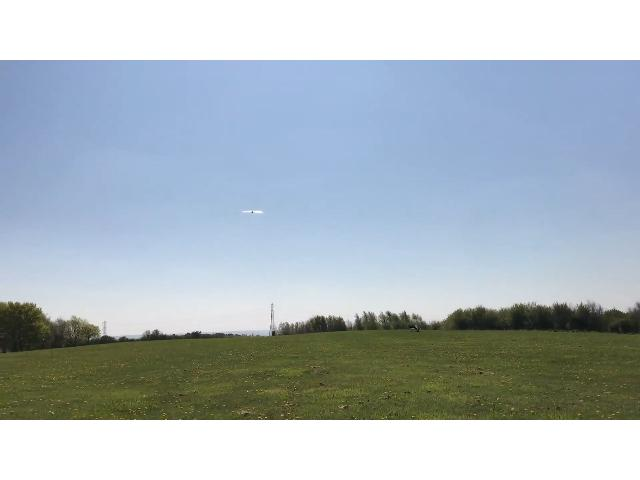Anti-Drone: (237, 205, 275, 221)
